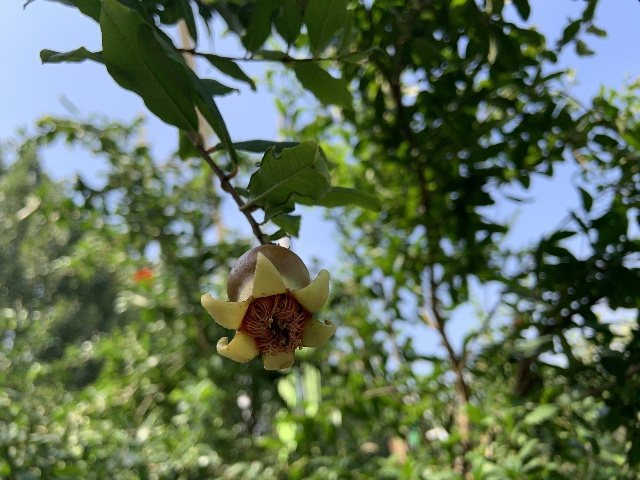early-fruit: (200, 243, 336, 370)
